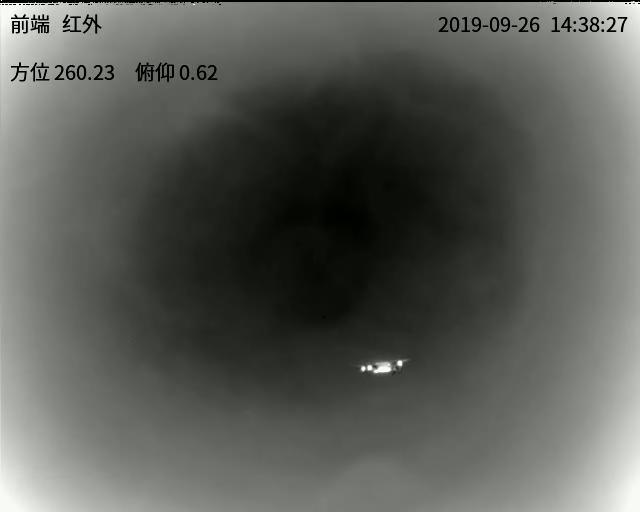uav: (348, 353, 407, 378)
